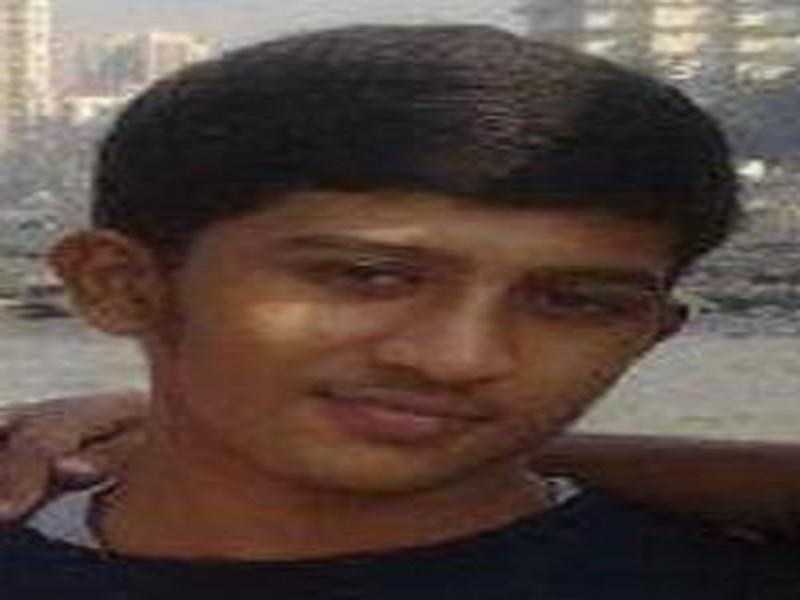without_mask: (170, 187, 661, 497)
